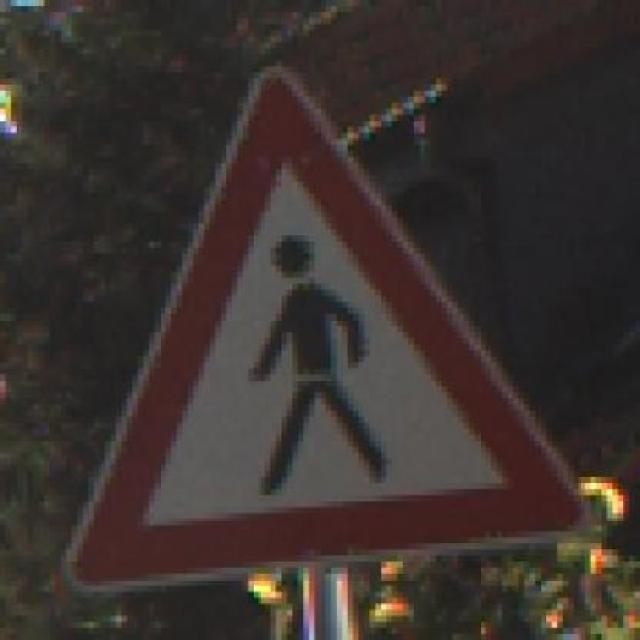Pedestrian Crossing: (61, 54, 596, 592)
